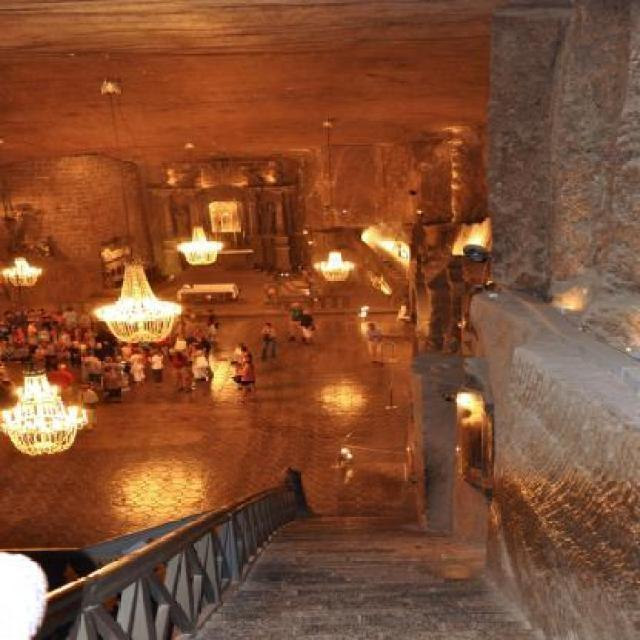stair: (178, 509, 552, 640)
